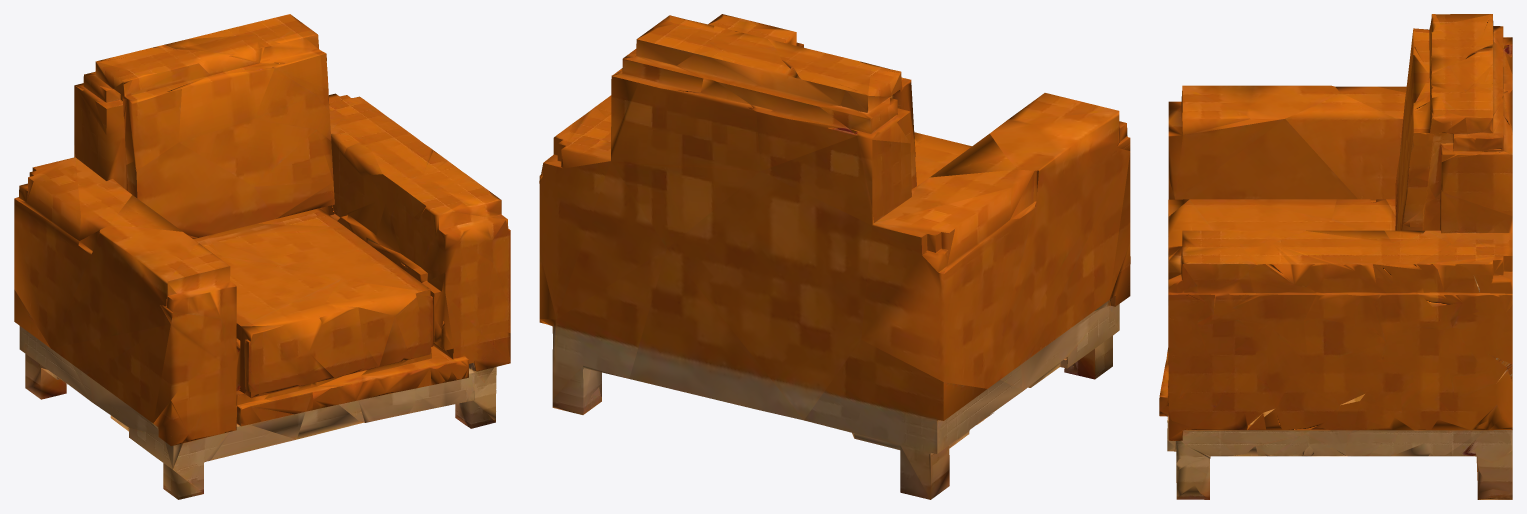
The model's file is armchair.glb.
3 renders of one model, left to right at view 1: azimuth 30°, elevation 25°; view 2: azimuth 150°, elevation 25°; view 3: azimuth 270°, elevation 25°, orthographic. The views are drawn at different scales.
Bounding box in the file's own units: 2 × 1.79 × 1.64.
Materials: 1 (1 with a texture image).
